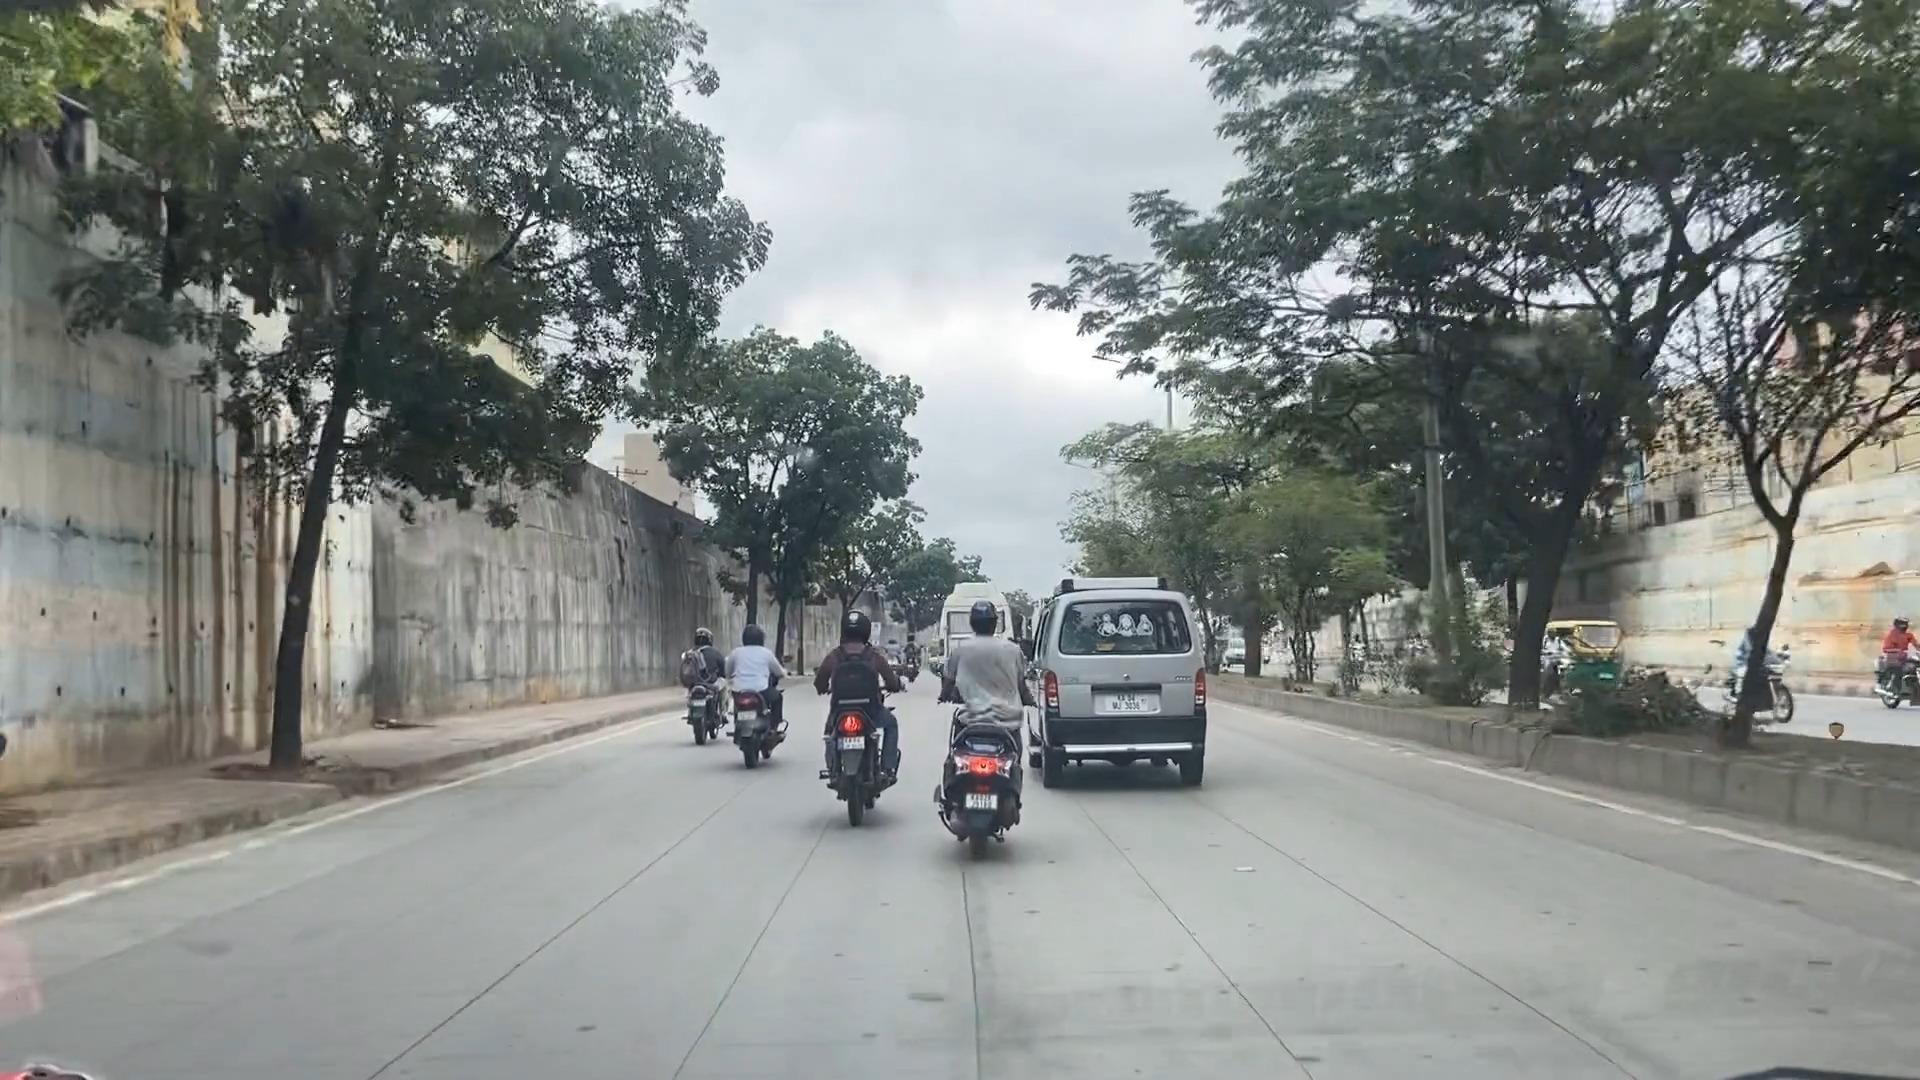LMV: (1063, 566, 1237, 789), (924, 593, 1043, 823), (725, 622, 781, 750), (669, 611, 711, 753)
